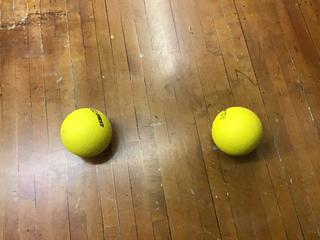power_cell: (55, 106, 118, 169), (210, 105, 268, 162)
